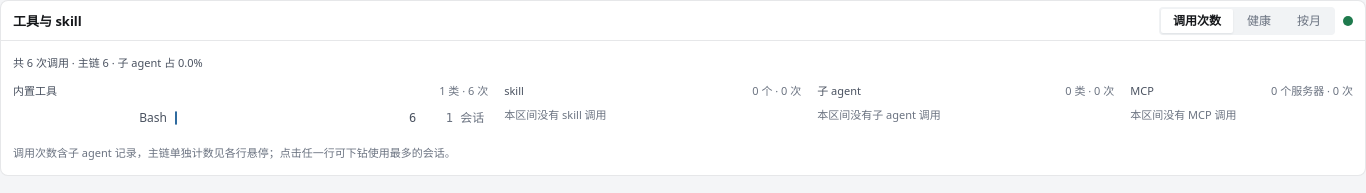
Test: ToolCensusPanel 按月视图（G6） › 趋势判据：前 6 月均值 vs 后 3 月均值，>30% 升/降、不足 9 个月给「—」
This screenshot has width=1366, height=193.
Click the tab "按月" at (1309, 20), box [1285,8,1333,32]
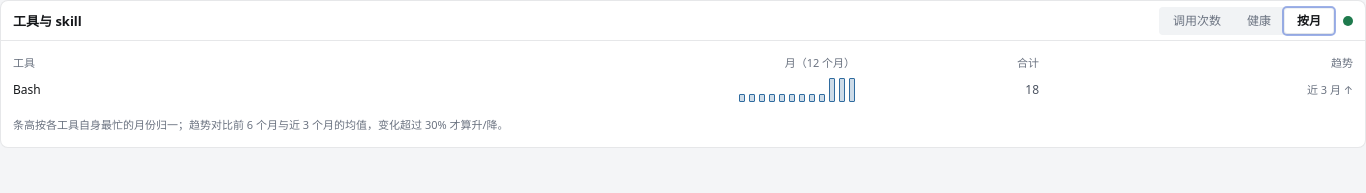
Result: the text "近 3 月 ↑" is shown at [1039,73,1353,107]
Result: the text "条高按各工具自身最忙的月份归一；趋势对比前 6 个月与近 3 个月的均值，变化超过 30% 才算升/降。" is shown at [13,117,509,132]
